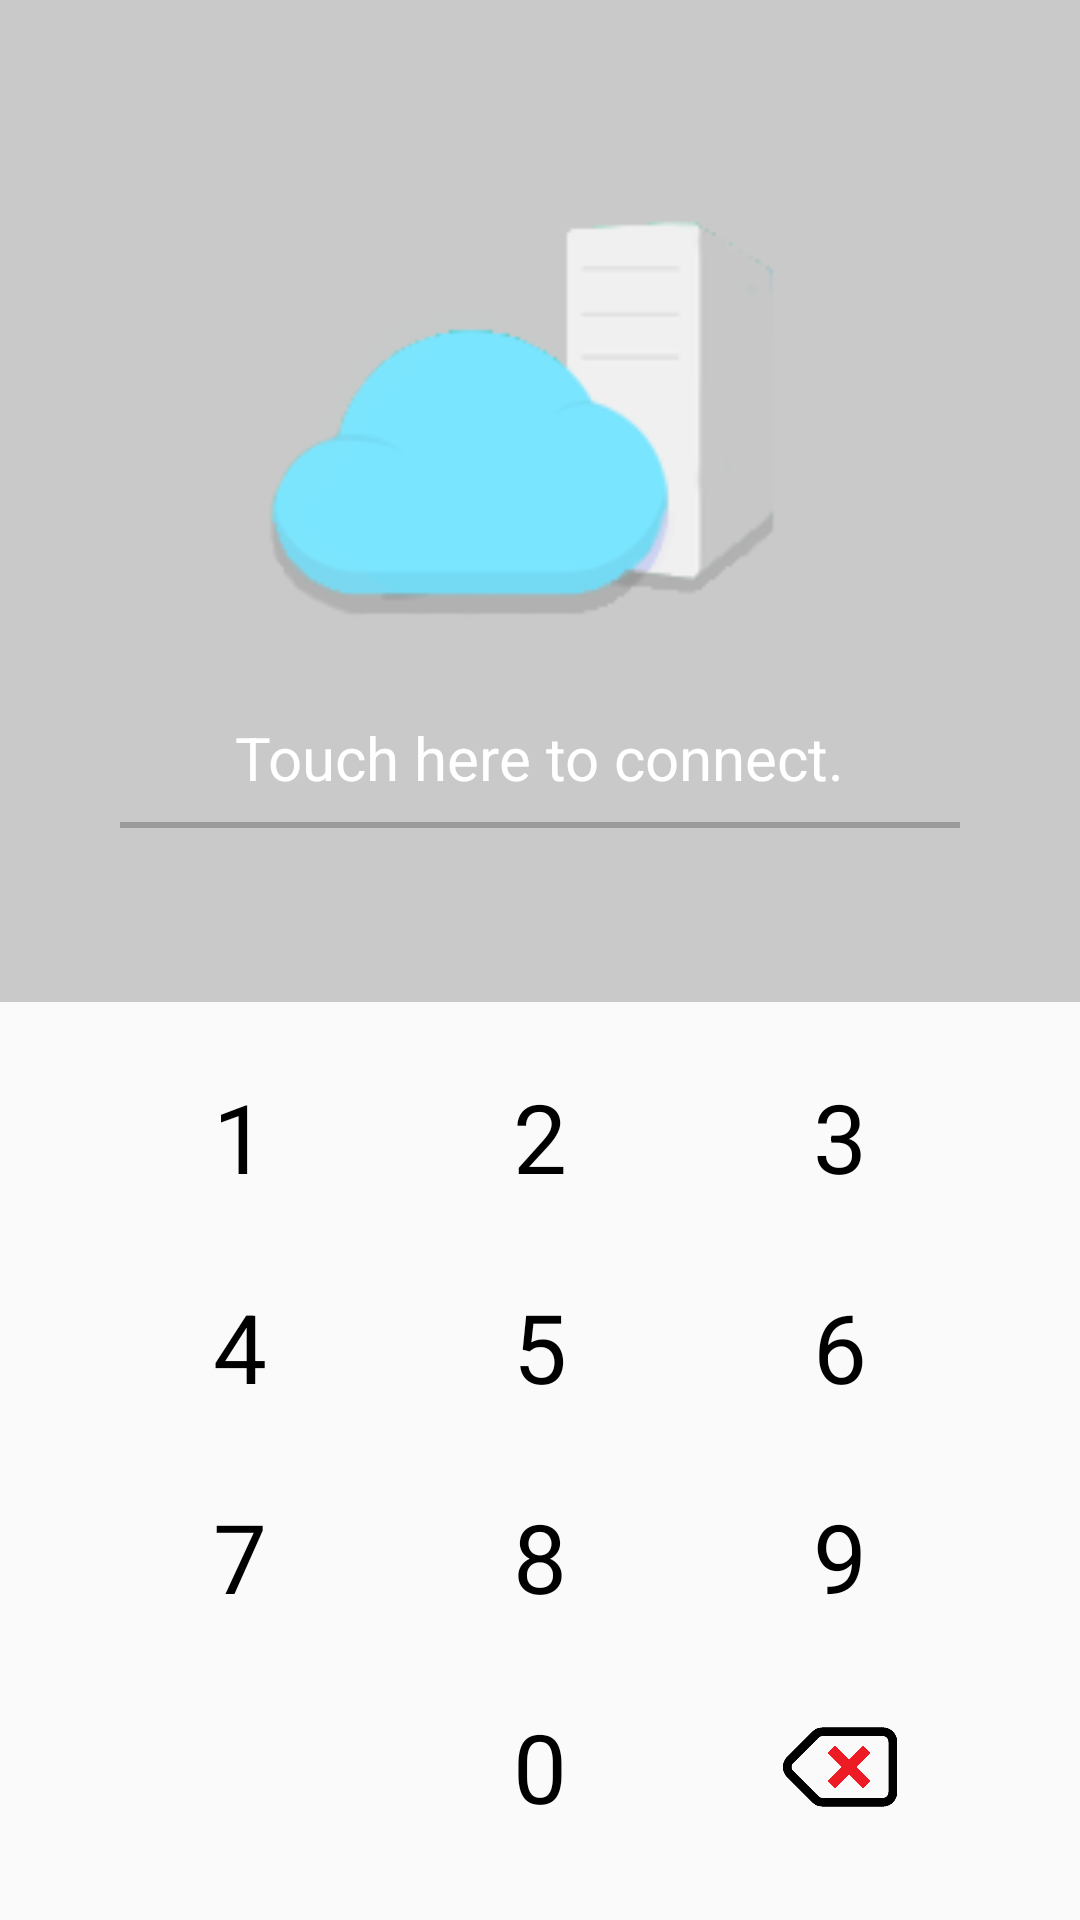

Icons on this 1080 x 1920 Android screen, each with the point to tap as (x,y):
backspace: (840,1767)
